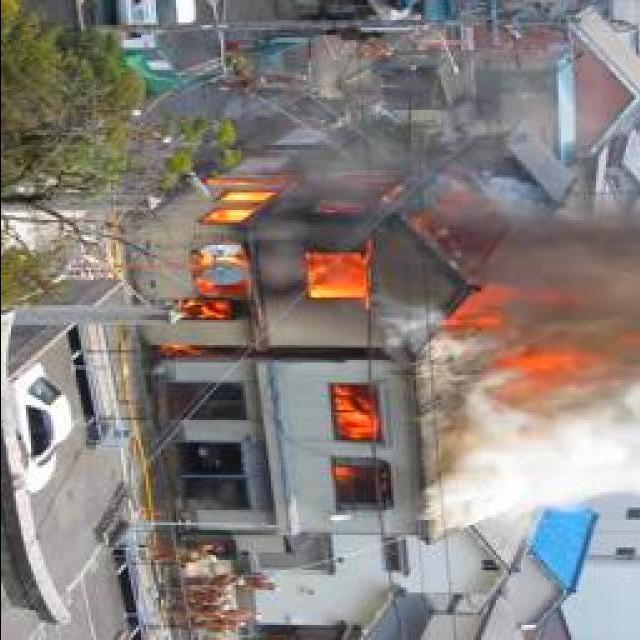Fire: (148, 180, 412, 363), (451, 284, 601, 406), (329, 388, 379, 488)
